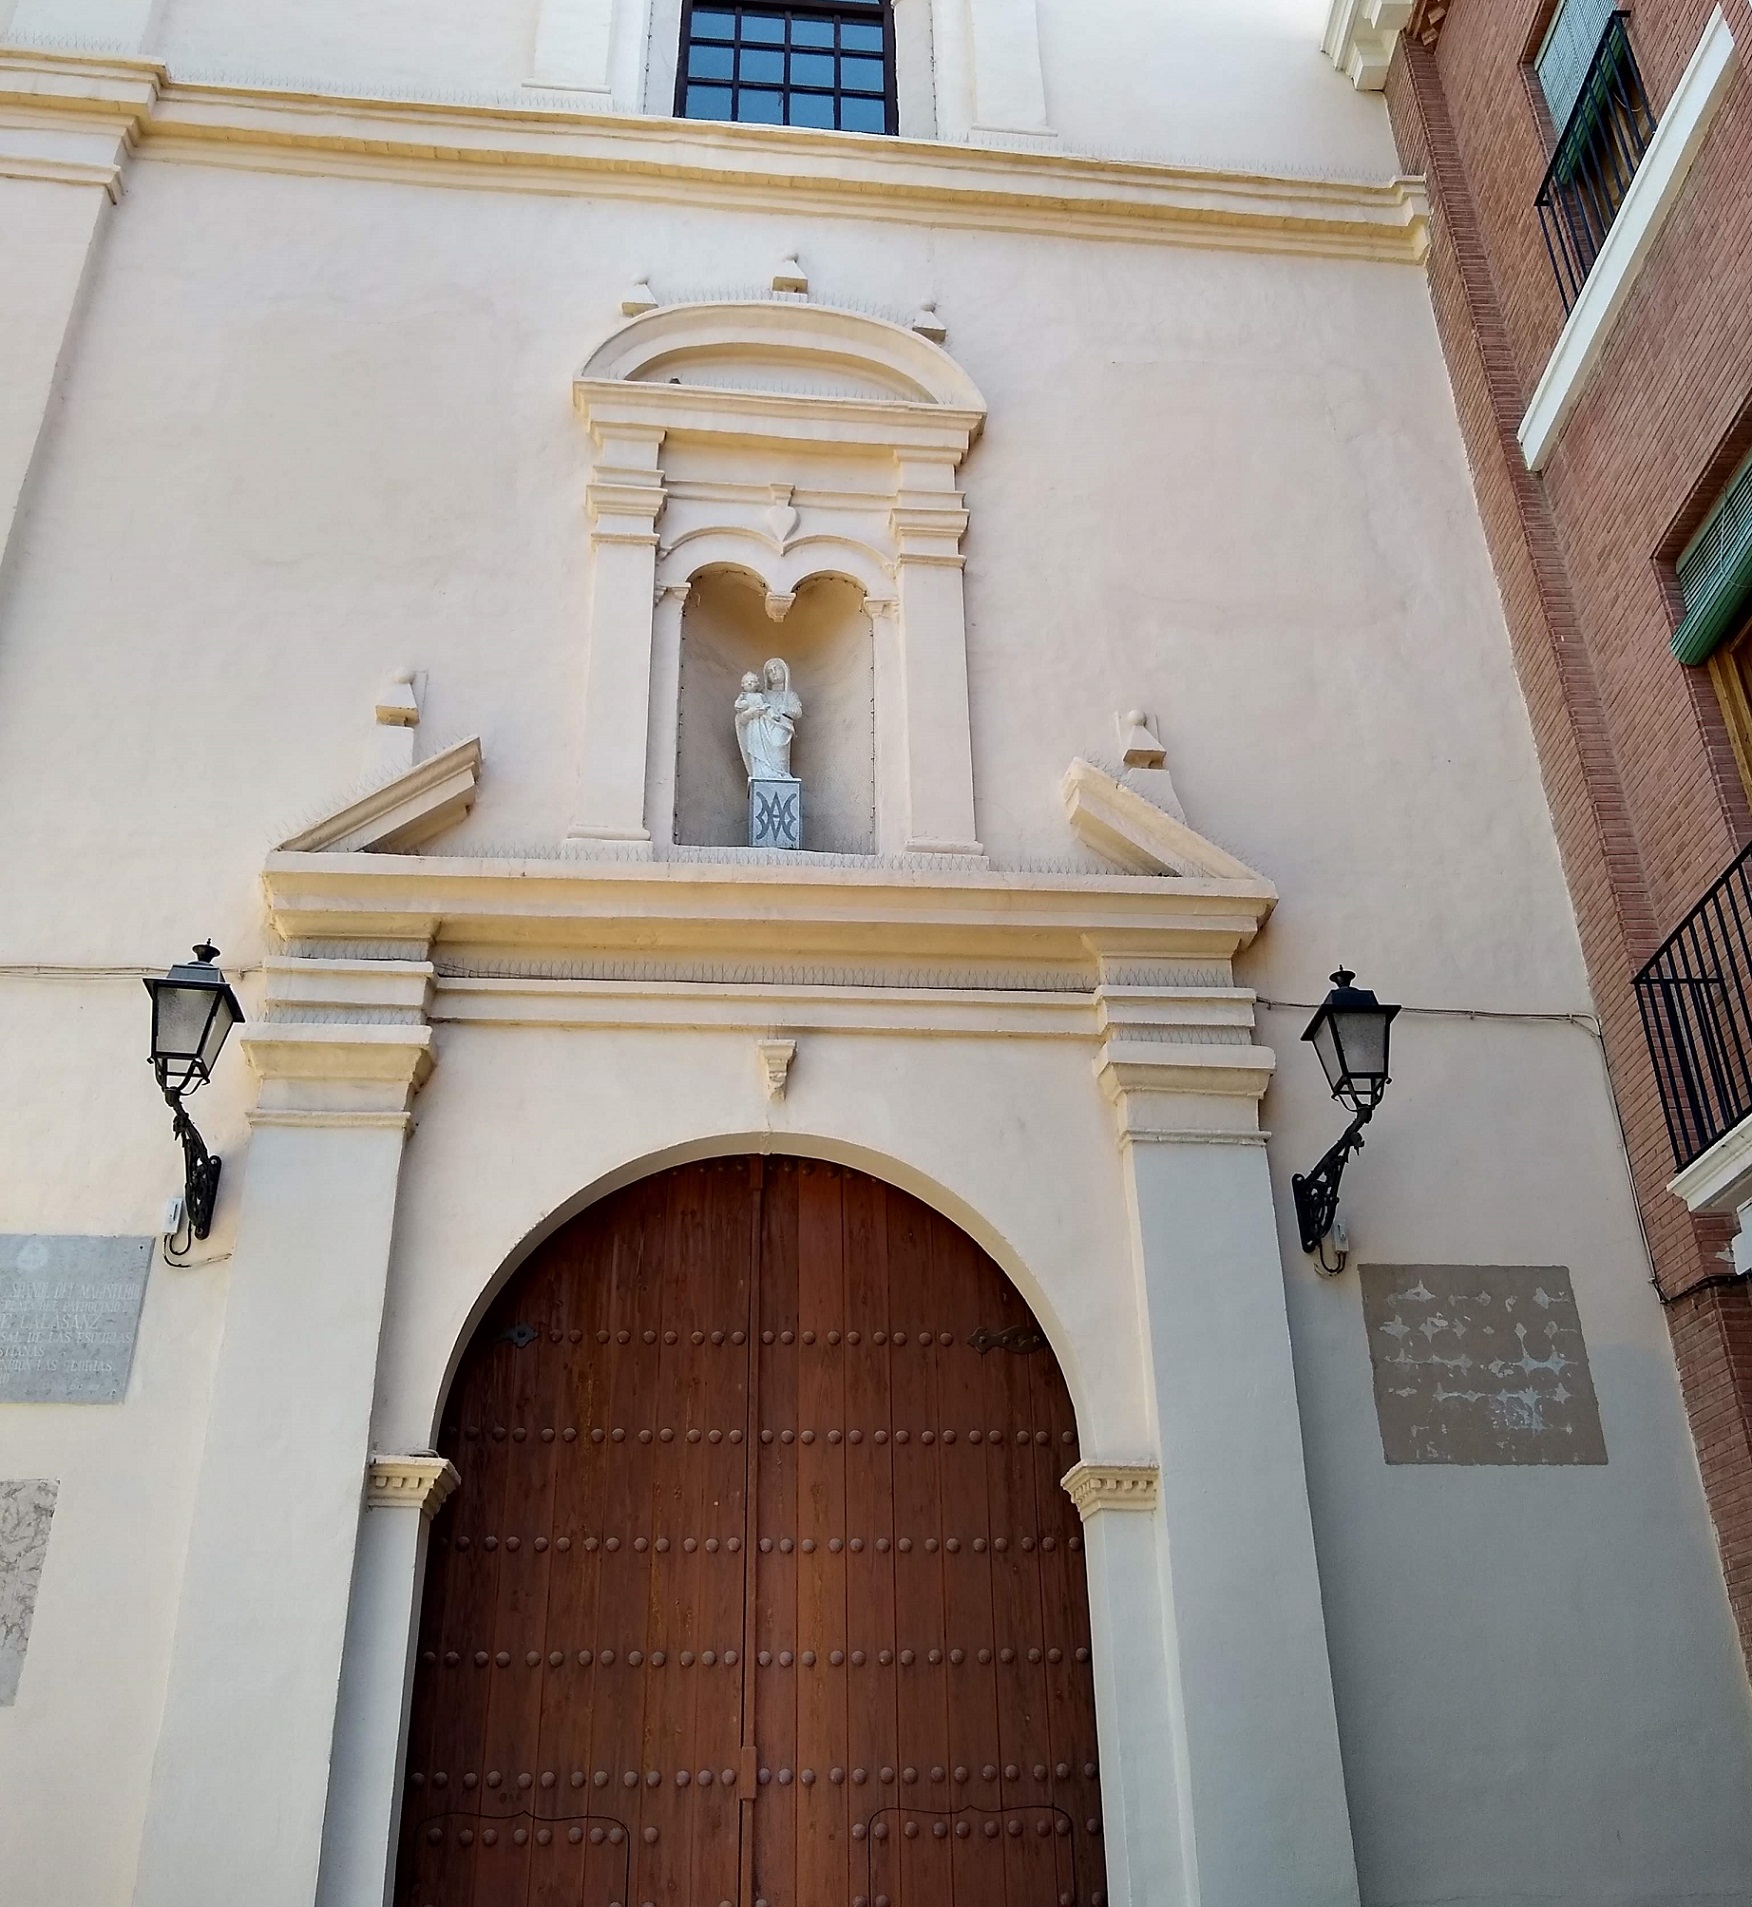arco-medio-punto: (400, 1121, 1114, 1571)
fronton-curvo: (563, 286, 1000, 439)
fronton-partido: (257, 734, 1287, 953)
